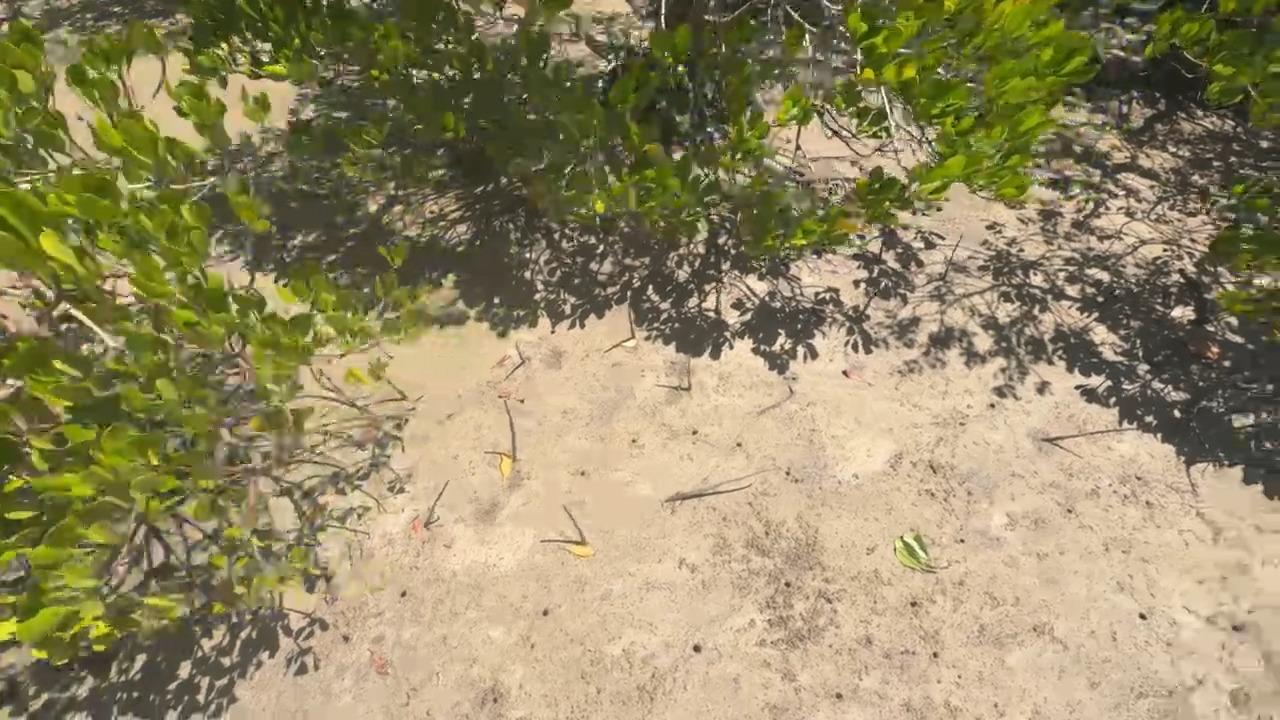Tree: (665, 484, 752, 502), (1040, 427, 1139, 441), (425, 479, 450, 526), (562, 504, 586, 543), (944, 234, 963, 279), (504, 400, 517, 461), (386, 380, 411, 403), (629, 306, 636, 340), (688, 358, 693, 391), (515, 344, 523, 364)
